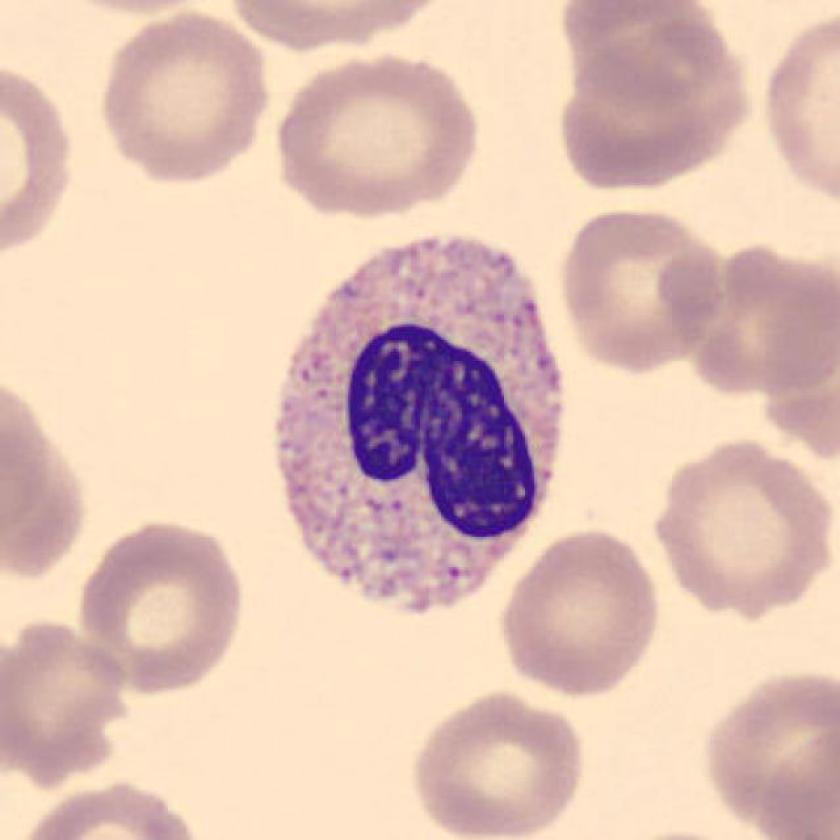neutrophil: (278, 239, 557, 606)
